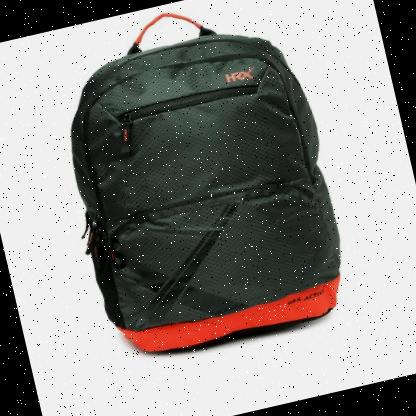bag: (30, 0, 365, 379)
